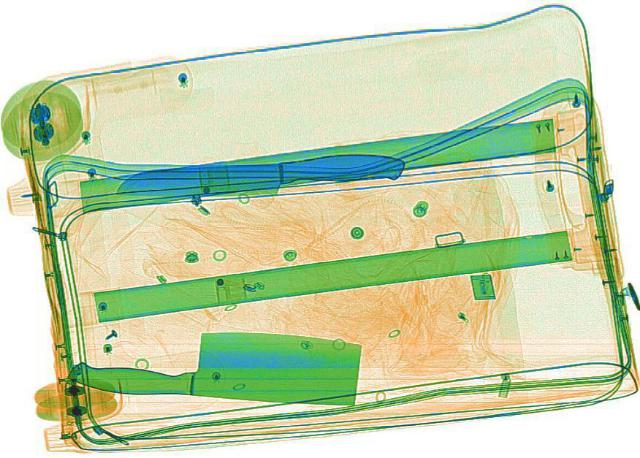Knife: (62, 327, 368, 408), (110, 141, 410, 214)
